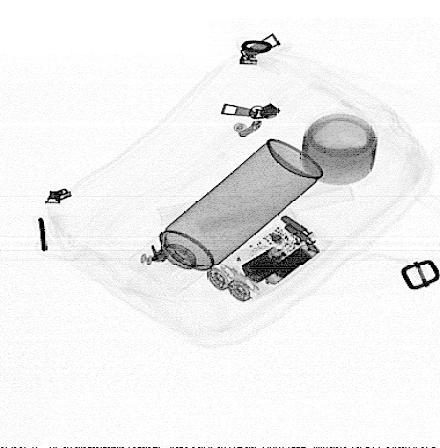Sprayer: (129, 138, 326, 294)
